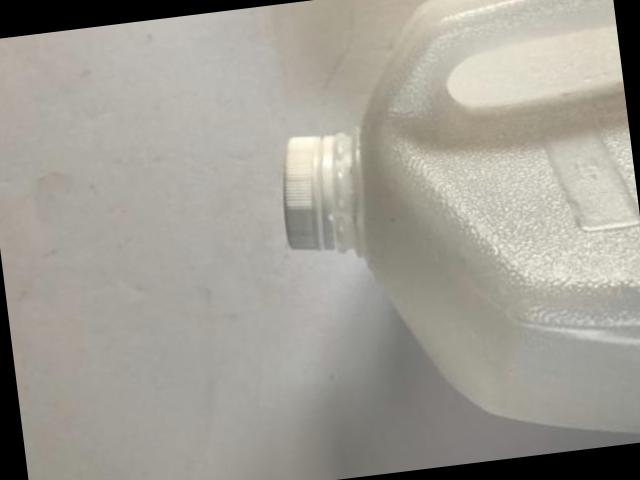plastic: (280, 0, 640, 431)
